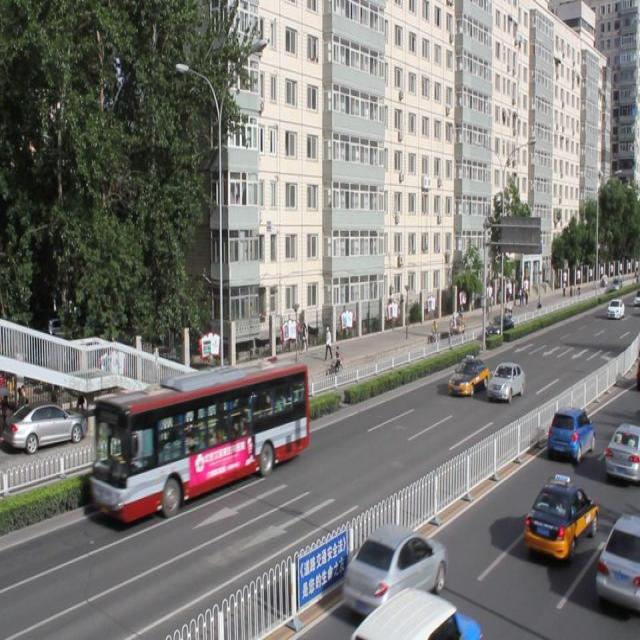car: (342, 521, 446, 616), (352, 584, 477, 640), (524, 474, 596, 557), (593, 512, 640, 608), (546, 404, 593, 461), (602, 422, 640, 480), (448, 355, 488, 396), (487, 360, 524, 401), (484, 312, 513, 340)
van: (91, 364, 307, 525)
